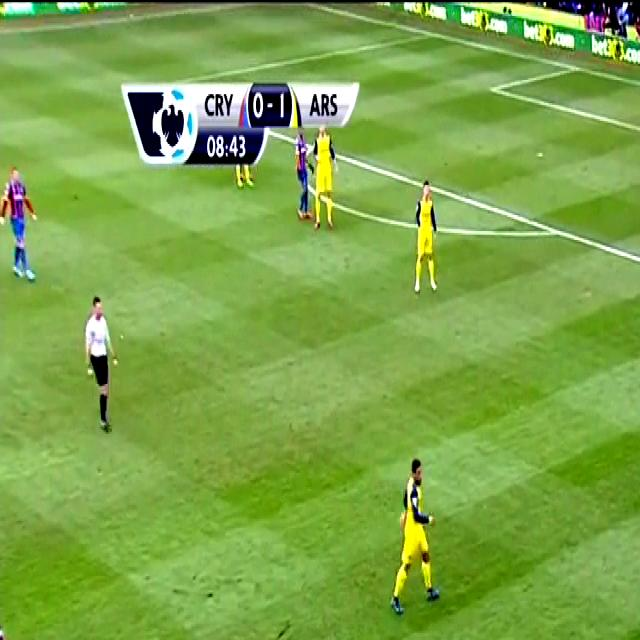referee: (76, 291, 130, 438)
soccer-player: (380, 453, 457, 625), (0, 156, 47, 284), (402, 174, 448, 299), (0, 604, 35, 640)
